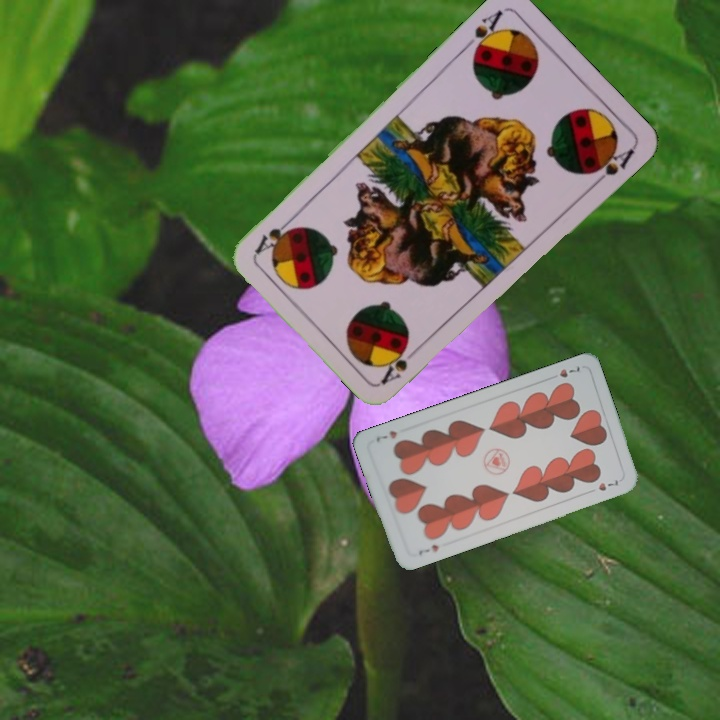H7: (545, 362, 583, 382), (414, 540, 441, 558)
SA: (459, 5, 506, 59), (377, 340, 423, 387)
